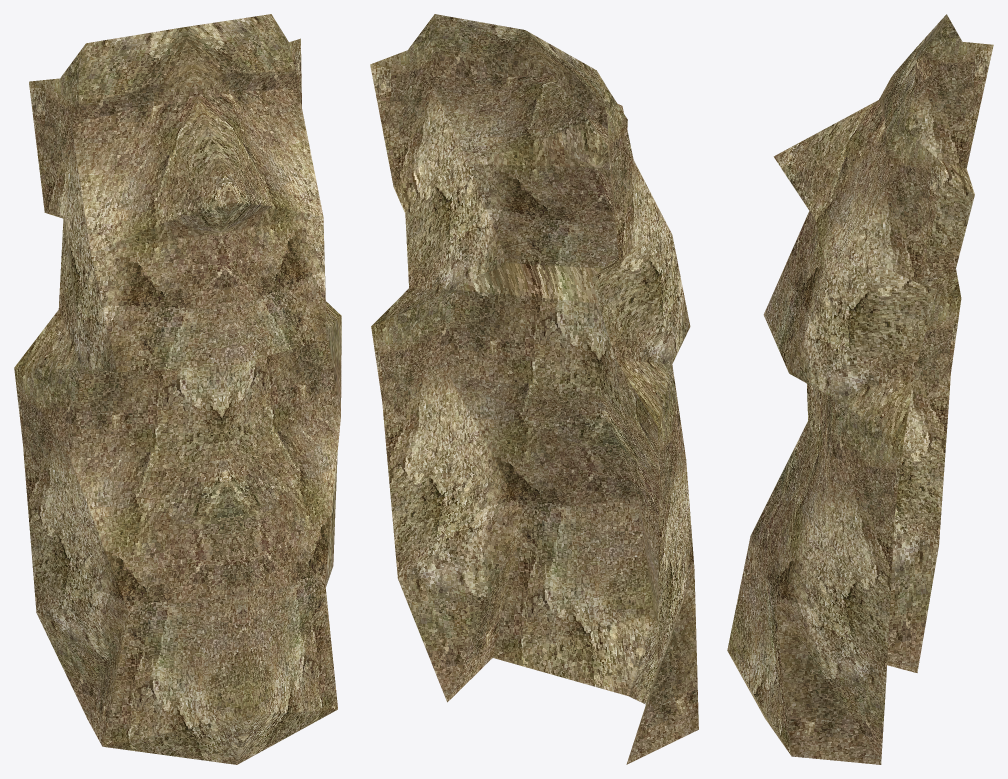
Rendered from stage-east-p7-126.glb.
The picture shows the model from 3 angles, left to right: view 1: azimuth 30°, elevation 25°; view 2: azimuth 150°, elevation 25°; view 3: azimuth 270°, elevation 25°; orthographic projection. The views are drawn at different scales.
Size of the model in its own units: 10.14 by 21.97 by 7.79.
Materials: 1 (1 with a texture image).
